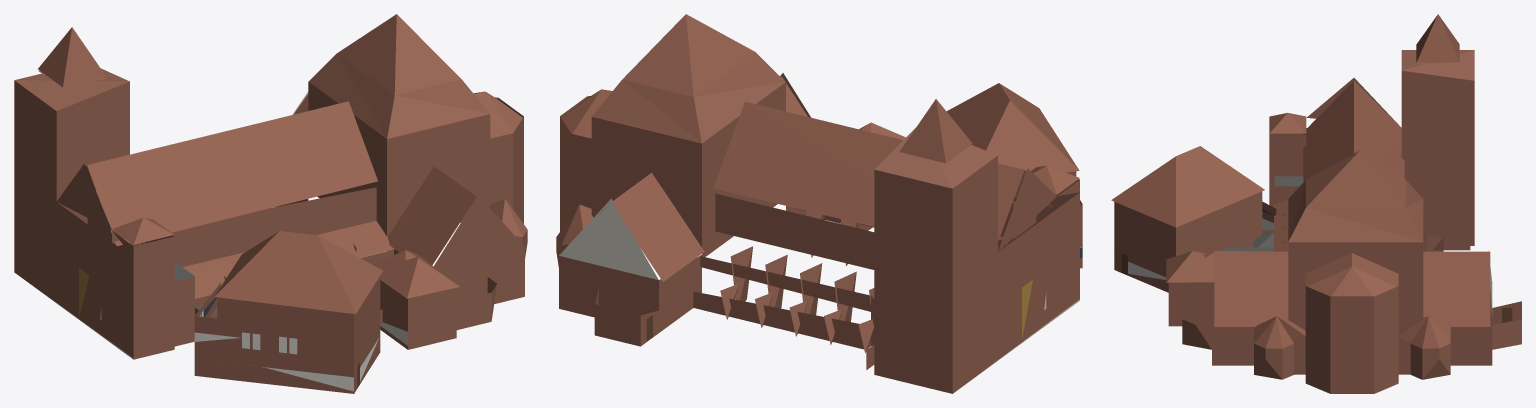
Rendered from hofkerk.lod2.glb.
3 renders of one model, left to right at view 1: azimuth 30°, elevation 25°; view 2: azimuth 150°, elevation 25°; view 3: azimuth 270°, elevation 25°, orthographic. The views are drawn at different scales.
Visible parts, largest first — view 1: lod2; view 2: lod2; view 3: lod2.
Part boxes in pixels (x1,y1,x2,y2): lod2: (14, 14, 527, 393); lod2: (556, 14, 1082, 393); lod2: (1111, 14, 1521, 393).
Bounding box in the file's own units: 56.6 × 32 × 55.
